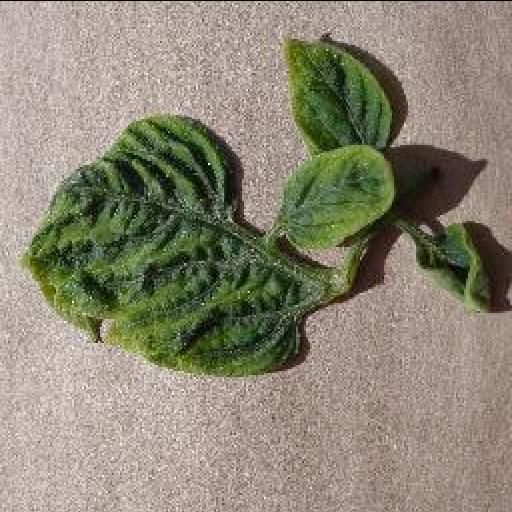disease_tomato: (24, 112, 306, 380), (282, 36, 396, 150), (281, 142, 399, 250)
